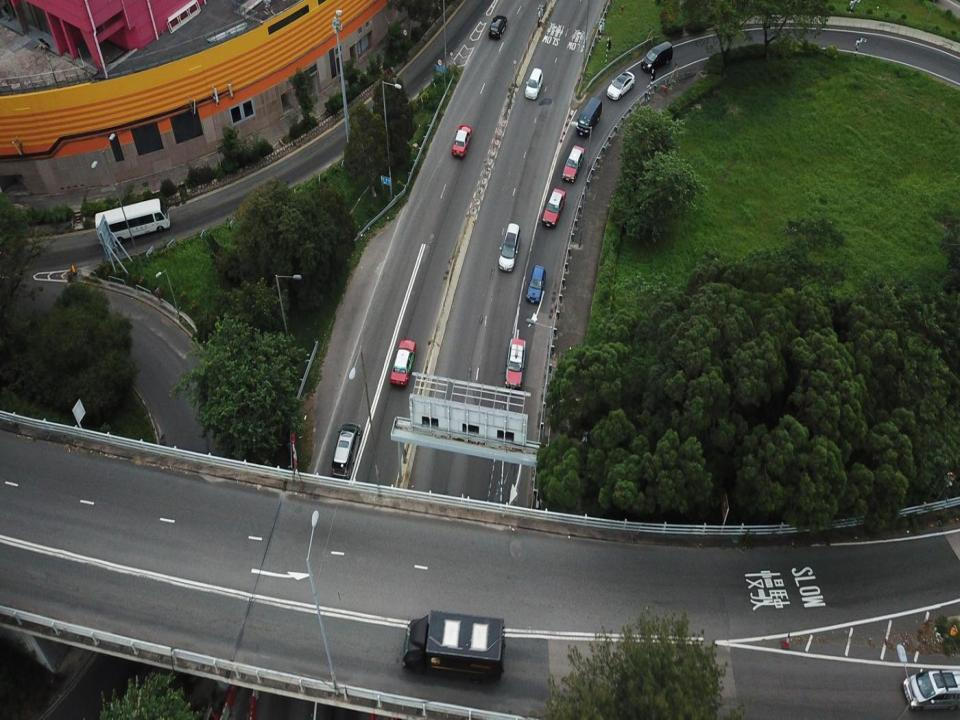bus: (94, 197, 172, 246)
car: (898, 664, 960, 714), (332, 421, 361, 474), (390, 338, 417, 387), (498, 221, 521, 273), (504, 336, 526, 389), (540, 188, 566, 230), (642, 40, 674, 73), (607, 71, 636, 102), (562, 145, 584, 183), (526, 263, 546, 304), (451, 123, 473, 160), (524, 66, 544, 100), (488, 14, 508, 39)
truck: (400, 609, 507, 680)
van: (576, 95, 603, 138)
